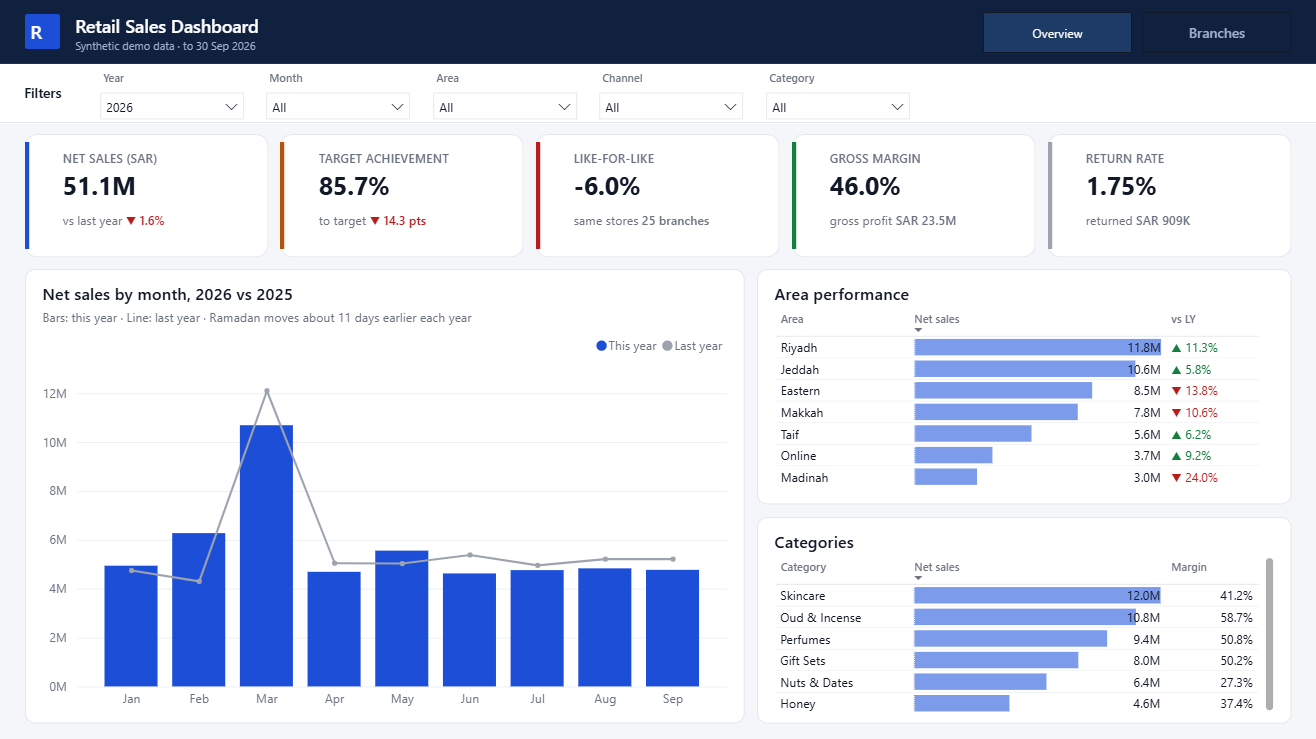

What the dashboard file says about the page in this screenshot:
{"tool":"powerbi","page":{"name":"Overview","canvas":[1280,720],"ordinal":0},"visuals":[{"type":"shape","box":[0,0,1280,62],"z":0},{"type":"shape","box":[24,14,34,34],"z":1},{"type":"textbox","box":[24,13,34,36],"z":2},{"type":"textbox","box":[68,8,420,50],"z":3},{"type":"pageNavigator","box":[956,12,300,40],"z":4},{"type":"shape","box":[0,62,1280,58],"z":5},{"type":"shape","box":[0,119,1280,1],"z":6},{"type":"textbox","box":[18,76,70,30],"z":7},{"type":"slicer","fields":{"Values":["Date.Year"]},"box":[92,68,150,48],"z":10},{"type":"slicer","fields":{"Values":["Date.Month"]},"box":[254,68,150,48],"z":11},{"type":"slicer","fields":{"Values":["Branch.area"]},"box":[416,68,150,48],"z":12},{"type":"slicer","fields":{"Values":["Branch.channel"]},"box":[578,68,150,48],"z":13},{"type":"slicer","fields":{"Values":["Product.category"]},"box":[740,68,150,48],"z":14},{"type":"shape","box":[24,130,236.8,120],"z":100},{"type":"cardVisual","fields":{"Data":["_Measures.Net Sales"]},"box":[32,132,224.8,116],"z":101},{"type":"shape","box":[24,138,4,104],"z":102},{"type":"shape","box":[272.8,130,236.8,120],"z":103},{"type":"cardVisual","fields":{"Data":["_Measures.Target Achievement %"]},"box":[280.8,132,224.8,116],"z":104},{"type":"shape","box":[272.8,138,4,104],"z":105},{"type":"shape","box":[521.6,130,236.8,120],"z":106},{"type":"cardVisual","fields":{"Data":["_Measures.LFL %"]},"box":[529.6,132,224.8,116],"z":107},{"type":"shape","box":[521.6,138,4,104],"z":108},{"type":"shape","box":[770.4,130,236.8,120],"z":109},{"type":"cardVisual","fields":{"Data":["_Measures.Gross Margin %"]},"box":[778.4,132,224.8,116],"z":110},{"type":"shape","box":[770.4,138,4,104],"z":111},{"type":"shape","box":[1019.2,130,236.8,120],"z":112},{"type":"cardVisual","fields":{"Data":["_Measures.Return Rate %"]},"box":[1027.2,132,224.8,116],"z":113},{"type":"shape","box":[1019.2,138,4,104],"z":114},{"type":"lineClusteredColumnComboChart","fields":{"Category":["Date.Month"],"Y":["_Measures.Net Sales"],"Y2":["_Measures.Net Sales LY"]},"box":[24,262,700,442],"z":300},{"type":"tableEx","title":"Area performance","fields":{"Values":["Branch.area","_Measures.Net Sales","_Measures.vs LY Label"]},"box":[736,262,520,229],"z":301},{"type":"tableEx","title":"Categories","fields":{"Values":["Product.category","_Measures.Net Sales","_Measures.Gross Margin %"]},"box":[736,503,520,201],"z":302}]}

Visuals, with their boxes in screenshot pixels (x1, y1, x2, y2), scaled from the page's 1280x720 canvas onto the 1316x739 screenshot:
shape: <region>0, 0, 1315, 64</region>
shape: <region>25, 14, 60, 49</region>
textbox: <region>25, 13, 60, 50</region>
textbox: <region>70, 8, 502, 60</region>
pageNavigator: <region>983, 12, 1291, 53</region>
shape: <region>0, 64, 1315, 123</region>
shape: <region>0, 122, 1315, 123</region>
textbox: <region>19, 78, 90, 109</region>
slicer - Date.Year: <region>95, 70, 249, 119</region>
slicer - Date.Month: <region>261, 70, 415, 119</region>
slicer - Branch.area: <region>428, 70, 582, 119</region>
slicer - Branch.channel: <region>594, 70, 748, 119</region>
slicer - Product.category: <region>761, 70, 915, 119</region>
shape: <region>25, 133, 268, 257</region>
cardVisual - _Measures.Net Sales: <region>33, 135, 264, 255</region>
shape: <region>25, 142, 29, 248</region>
shape: <region>280, 133, 524, 257</region>
cardVisual - _Measures.Target Achievement %: <region>289, 135, 520, 255</region>
shape: <region>280, 142, 285, 248</region>
shape: <region>536, 133, 780, 257</region>
cardVisual - _Measures.LFL %: <region>544, 135, 776, 255</region>
shape: <region>536, 142, 540, 248</region>
shape: <region>792, 133, 1036, 257</region>
cardVisual - _Measures.Gross Margin %: <region>800, 135, 1031, 255</region>
shape: <region>792, 142, 796, 248</region>
shape: <region>1048, 133, 1291, 257</region>
cardVisual - _Measures.Return Rate %: <region>1056, 135, 1287, 255</region>
shape: <region>1048, 142, 1052, 248</region>
lineClusteredColumnComboChart - Date.Month x _Measures.Net Sales: <region>25, 269, 744, 723</region>
"Area performance" tableEx: <region>757, 269, 1291, 504</region>
"Categories" tableEx: <region>757, 516, 1291, 723</region>
